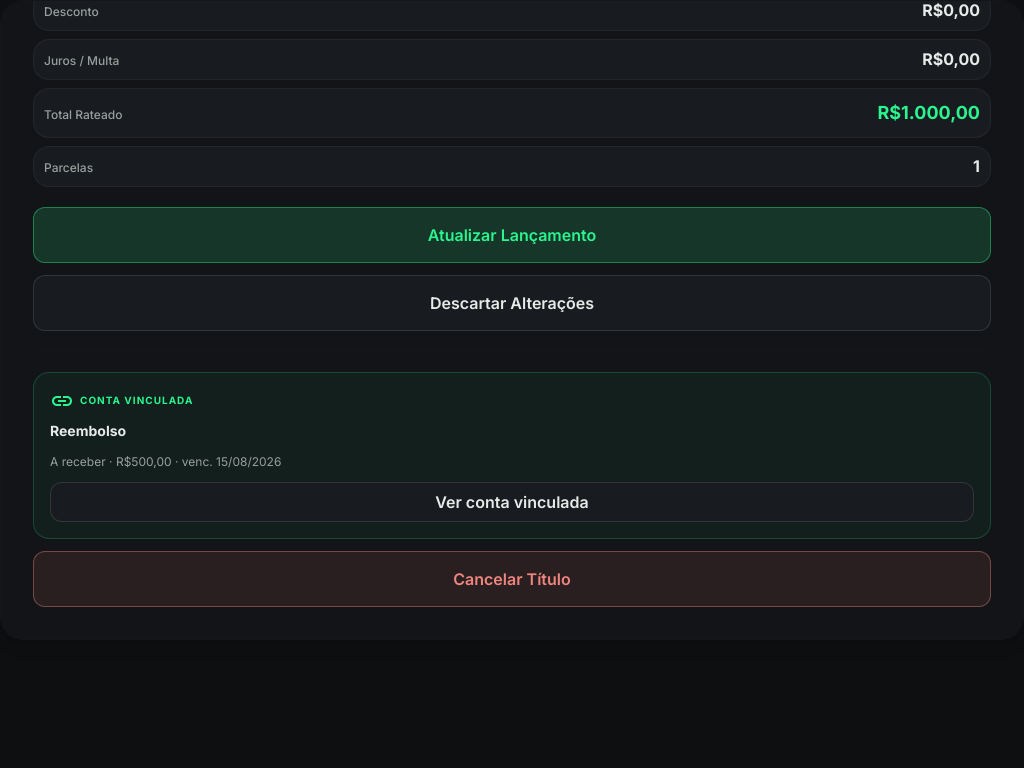
SummarySidebar › opens ContaVinculadaCancelDialog when contaVinculada is set and cancel clicked
(page scrolled)
Click the button "Cancelar Título" at point(512, 579), box [33,551,991,607]
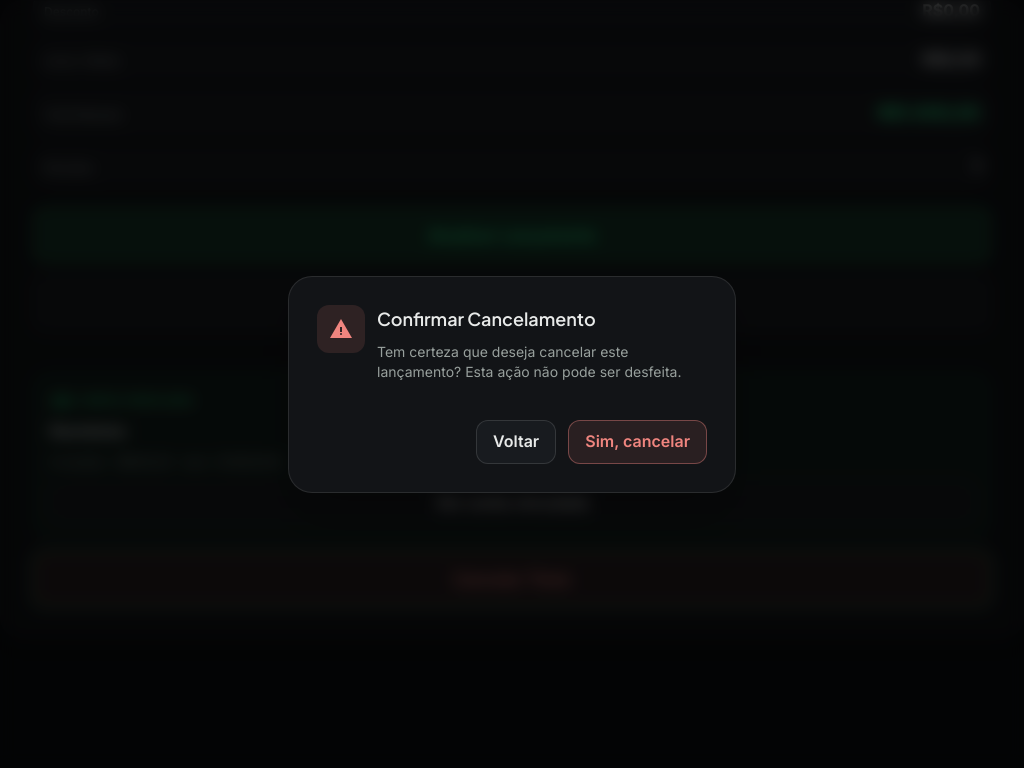
Click the button "Sim, cancelar" at point(638, 442), box [568,420,707,464]
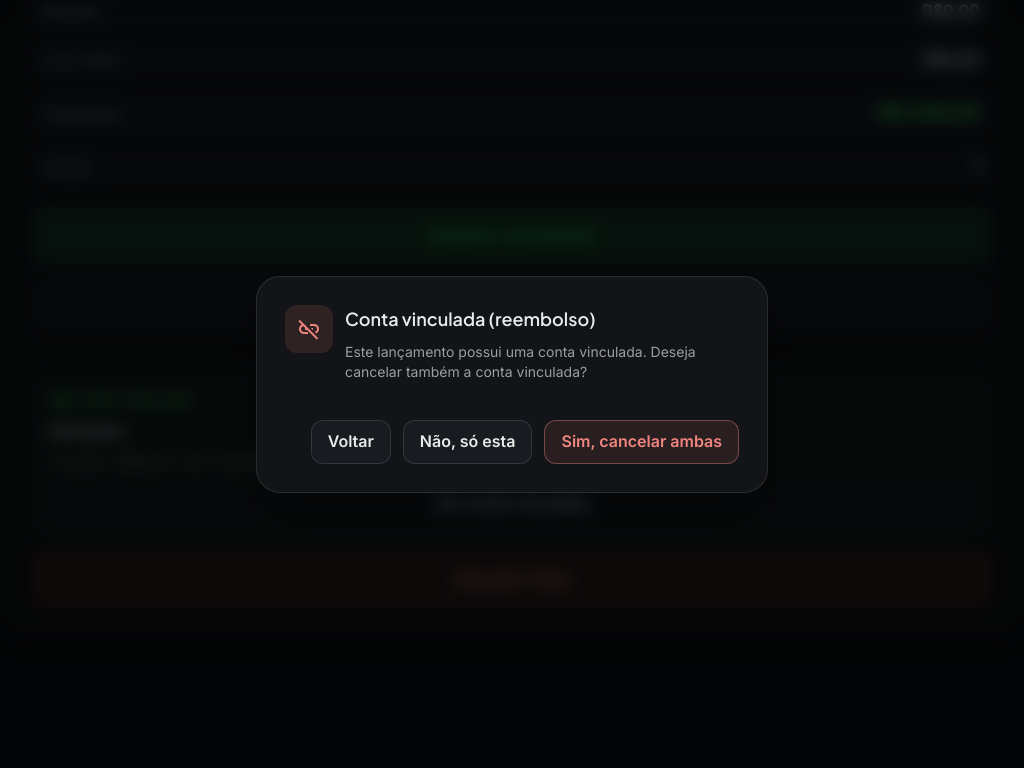
Expected: the heading "Conta vinculada (reembolso)" is shown, [345,306,596,330]
Expected: the button "Não, só esta" is shown, [403,420,532,464]
Expected: the button "Sim, cancelar ambas" is shown, [544,420,739,464]
